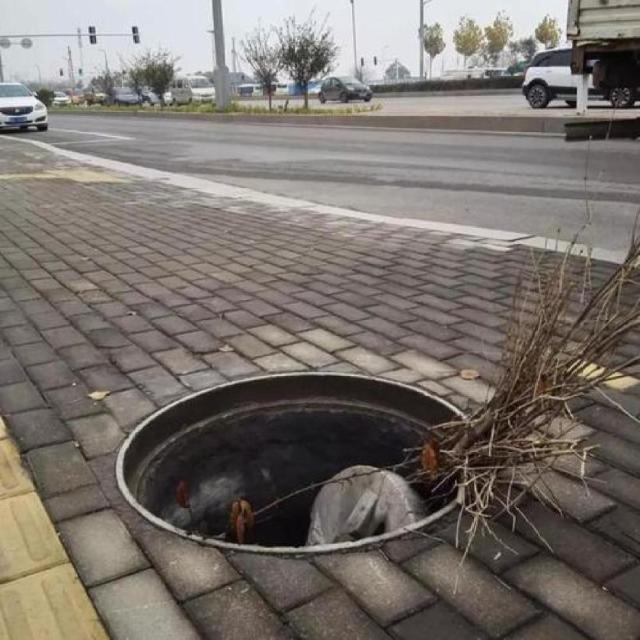hole: (132, 379, 474, 550)
